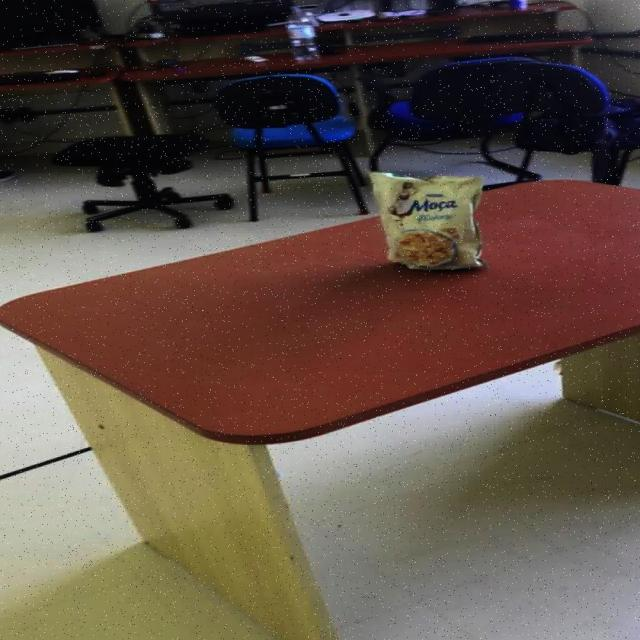CornFlakes: (366, 170, 484, 270), (396, 228, 457, 266)
